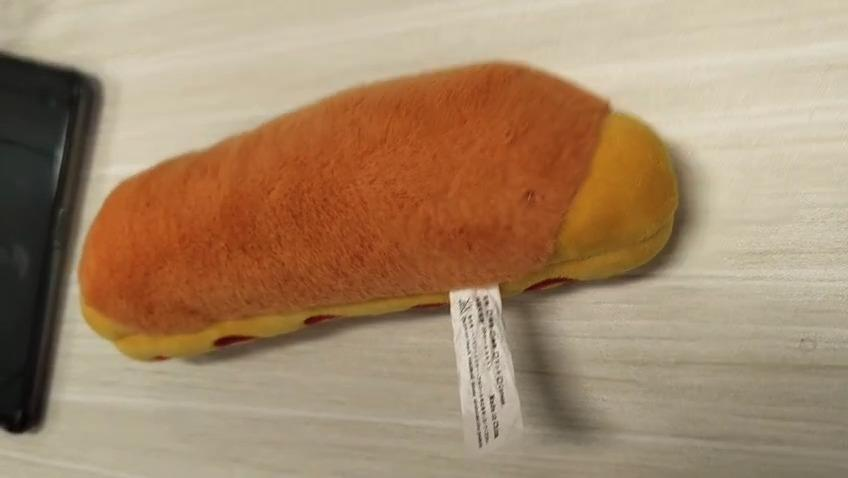hotdog: (79, 59, 681, 364)
